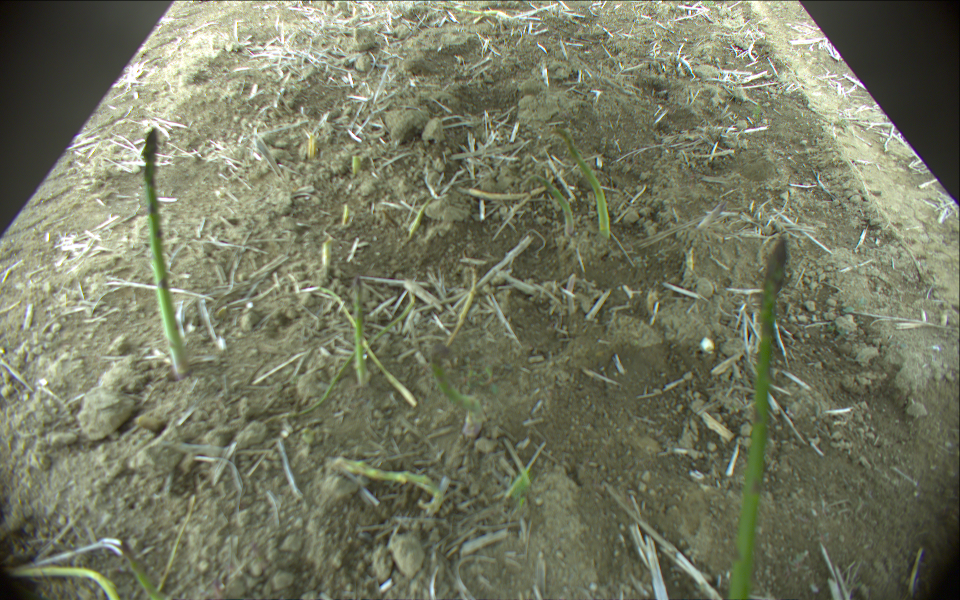aspa: (725, 235, 789, 600), (138, 127, 194, 377), (305, 285, 417, 408), (329, 455, 444, 509), (557, 128, 610, 235), (2, 561, 122, 599), (123, 538, 170, 600), (531, 174, 573, 238), (355, 274, 369, 386)
